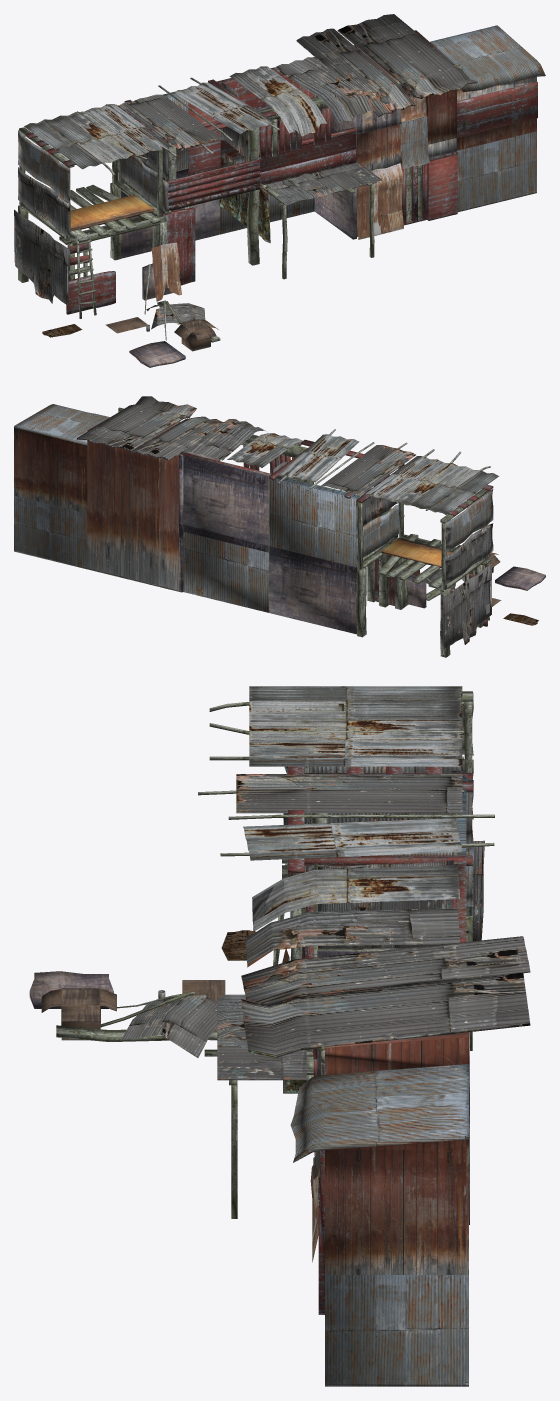
Rendered from shanty17.fbx.
3 renders of one model, top to bottom at view 1: azimuth 30°, elevation 25°; view 2: azimuth 150°, elevation 25°; view 3: azimuth 270°, elevation 25°, orthographic. The views are drawn at different scales.
Parts seen in each view (by area): view 1: shanty17, TwoSided, box; view 2: shanty17, TwoSided; view 3: shanty17, TwoSided, box.
Part boxes in pixels (x1,y1,x2,y2): shanty17: (14,14,545,367); TwoSided: (24,57,374,327); box: (174,319,218,351); shanty17: (14,396,545,657); TwoSided: (187,422,497,591); shanty17: (29,686,530,1386); TwoSided: (142,686,462,1057); box: (41,988,116,1040).
Bounding box in the file's own units: 649 × 198 × 302.
